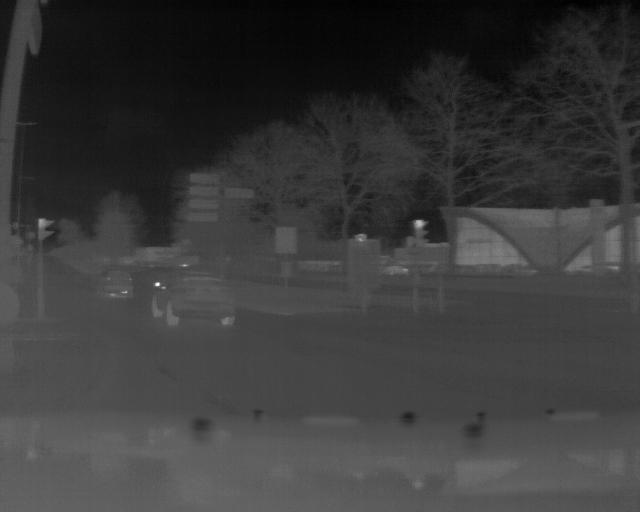car: (146, 269, 244, 338), (90, 264, 138, 306)
